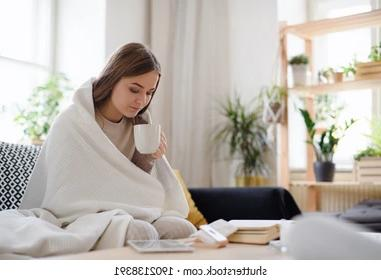blanket: (0, 76, 191, 261)
trousers: (125, 216, 198, 247)
